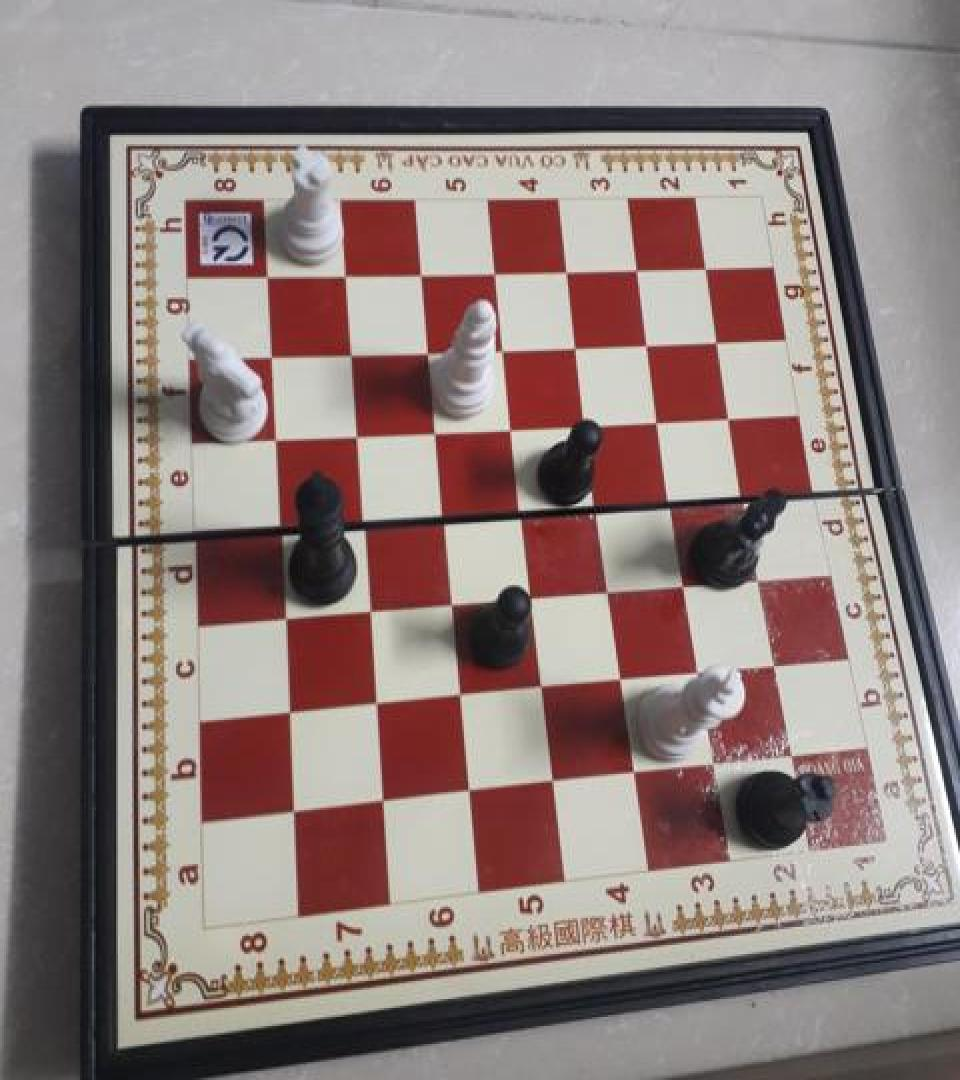xcorner: (280, 796, 308, 828), (369, 786, 397, 818), (455, 776, 483, 808), (539, 766, 567, 798), (621, 757, 649, 789), (700, 748, 728, 780), (777, 739, 805, 771), (275, 696, 303, 728), (362, 688, 390, 720), (446, 679, 474, 711), (762, 648, 790, 680), (355, 594, 383, 626), (438, 587, 466, 619), (518, 580, 546, 612), (673, 567, 701, 599), (747, 561, 775, 593), (349, 504, 377, 536), (430, 498, 458, 530), (585, 488, 613, 520), (732, 478, 760, 510), (261, 423, 289, 455), (343, 418, 371, 450), (422, 415, 450, 447), (574, 406, 602, 438), (719, 398, 747, 430), (337, 337, 365, 369), (414, 334, 442, 366), (564, 327, 592, 359), (635, 325, 663, 357), (253, 261, 281, 293), (407, 256, 435, 288), (481, 254, 509, 286), (554, 253, 582, 285), (529, 672, 557, 703), (608, 664, 636, 695), (686, 656, 714, 687), (270, 601, 298, 632), (596, 574, 624, 605), (265, 511, 293, 542), (508, 494, 536, 525), (660, 483, 688, 514), (499, 411, 527, 442), (647, 403, 675, 434), (257, 340, 285, 371), (490, 331, 518, 362), (705, 322, 733, 353), (331, 259, 359, 290), (624, 251, 652, 282), (693, 249, 721, 280)
